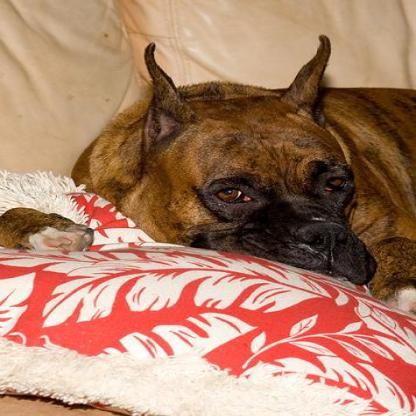boxer: (66, 35, 413, 300)
